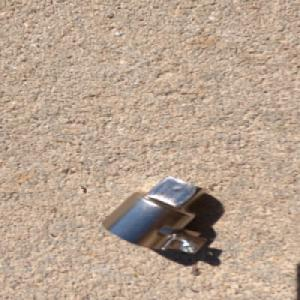MetalPart: (99, 175, 209, 256)
